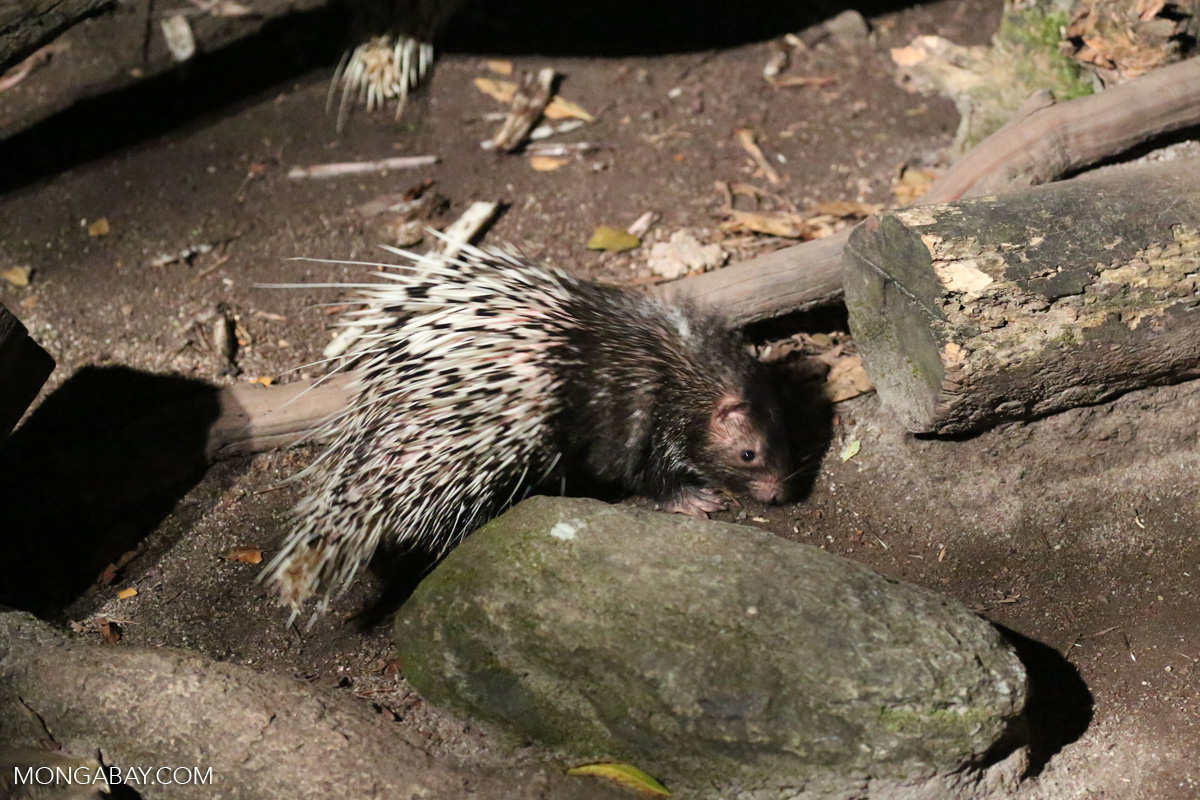porcupine: (244, 223, 808, 661)
